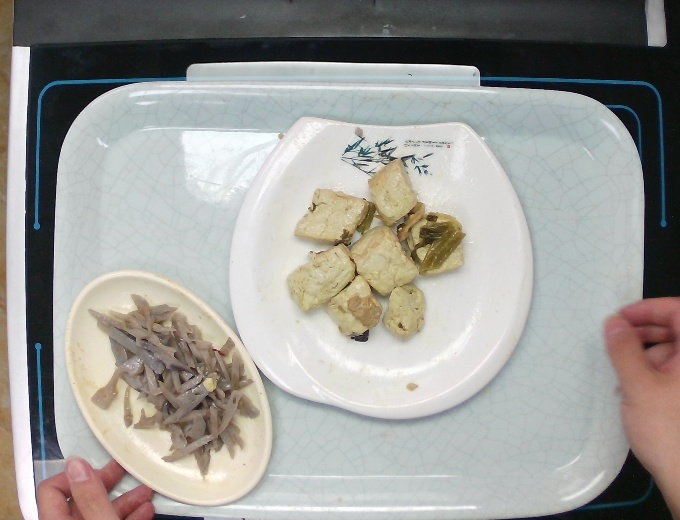JYsf-Mian_Pan: (224, 106, 542, 425)
JYsf-Tuo_Yuan_Wan: (58, 263, 278, 512)
